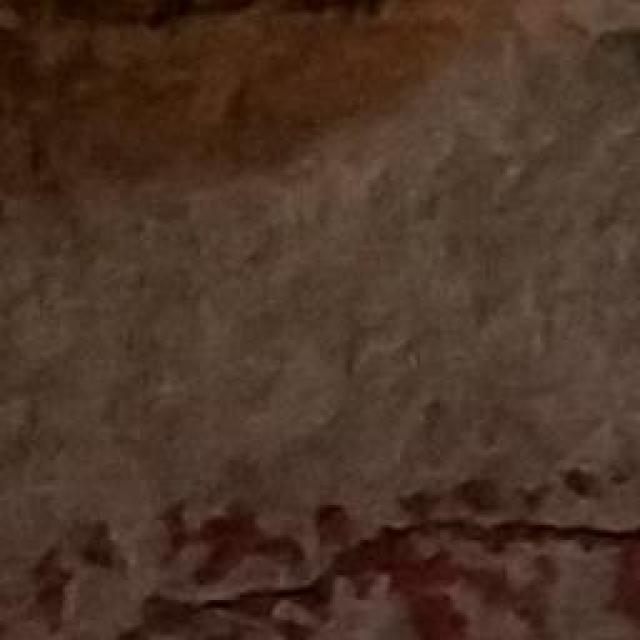Rippled: (11, 6, 640, 453)
Transverse: (4, 480, 640, 640)
